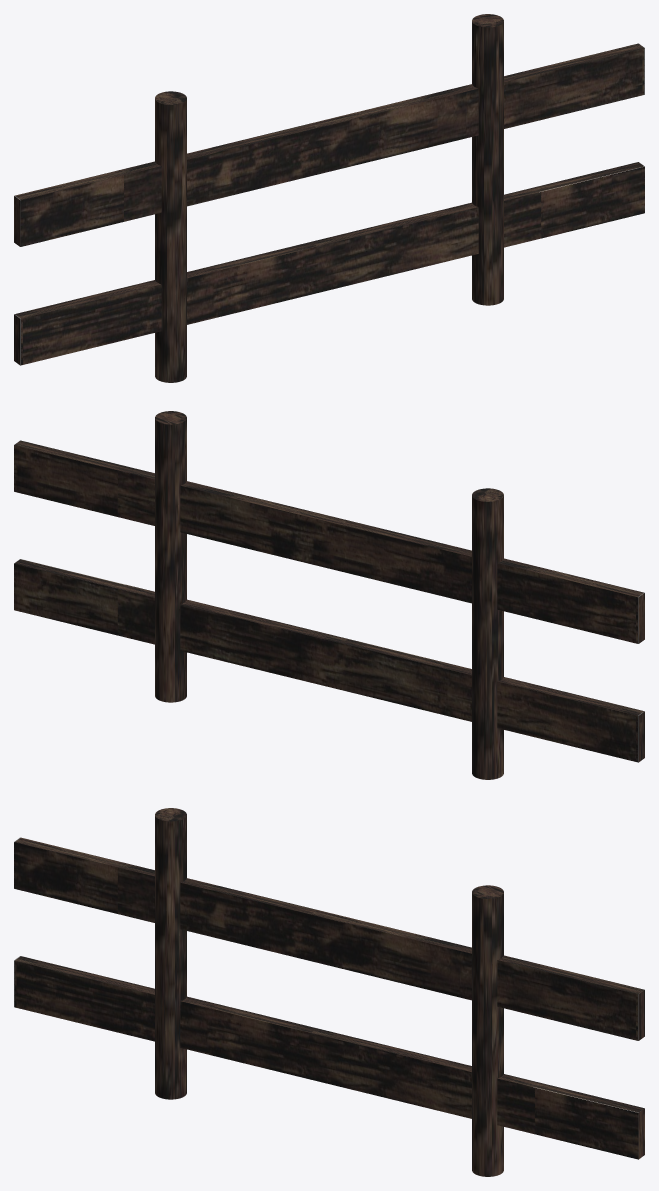
Rendered from cerca1.fbx.
3 renders of one model, top to bottom at view 1: azimuth 30°, elevation 25°; view 2: azimuth 150°, elevation 25°; view 3: azimuth 330°, elevation 25°, orthographic.
Parts seen in each view (by area): view 1: Cerca; view 2: Cerca; view 3: Cerca.
Boxes of the visible parts, x1,y1,x2,y2 form: Cerca: [14, 14, 644, 382]; Cerca: [14, 411, 644, 779]; Cerca: [14, 808, 644, 1176].
Bounding box in the file's own units: 1379 × 587 × 61.11.
1 material, 1 textured.
